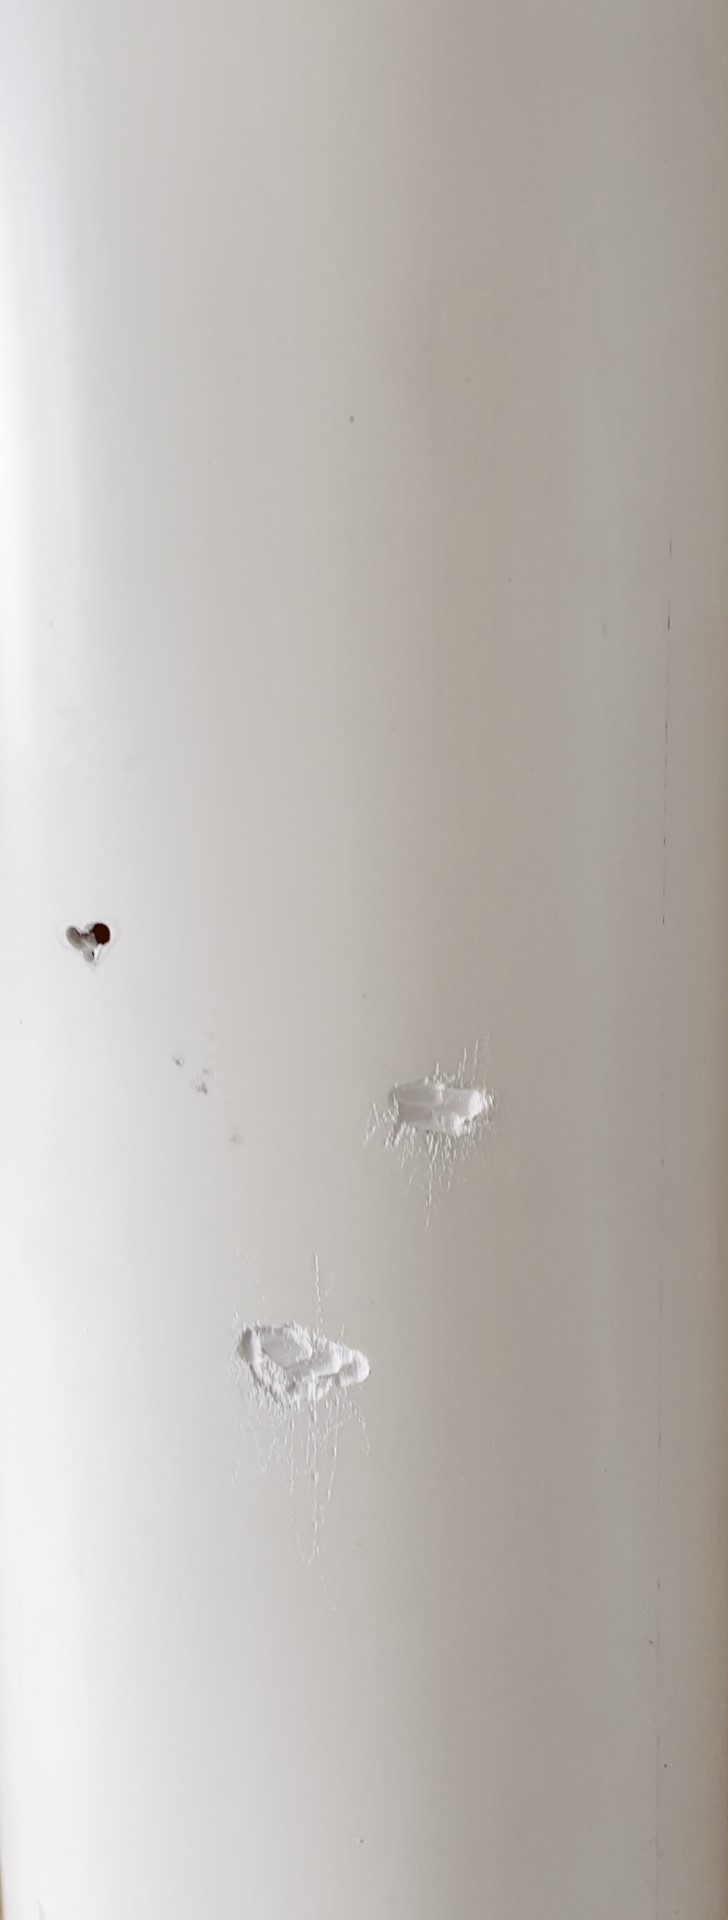kongdong: (64, 915, 121, 962)
sunshang: (225, 1313, 381, 1424), (374, 1067, 502, 1153)
